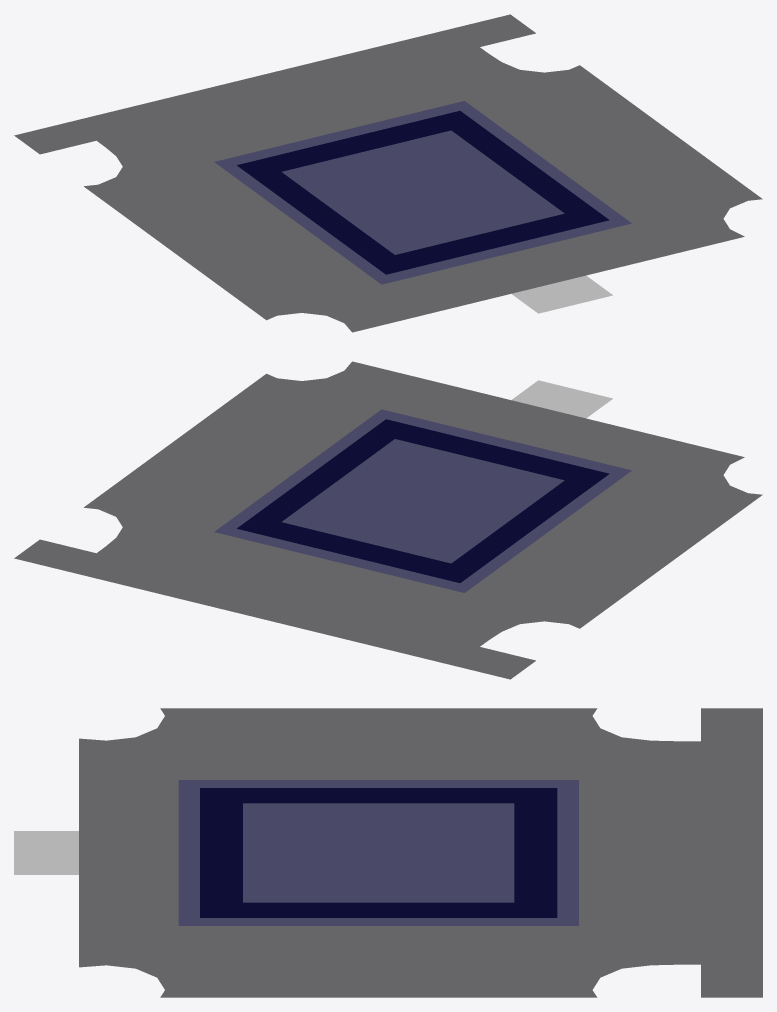
File: Bar_Floor.fbx
3 renders of one model, top to bottom at view 1: azimuth 30°, elevation 25°; view 2: azimuth 150°, elevation 25°; view 3: azimuth 270°, elevation 25°, orthographic. The views are drawn at different scales.
Parts seen in each view (by area): view 1: Bar_Floor; view 2: Bar_Floor; view 3: Bar_Floor.
Part boxes in pixels (bbox=[...]): Bar_Floor: bbox=[14, 14, 762, 332]; Bar_Floor: bbox=[14, 361, 762, 679]; Bar_Floor: bbox=[14, 708, 762, 997].
Size of the model in its own units: 1318 by 2.67e-05 by 1442.
